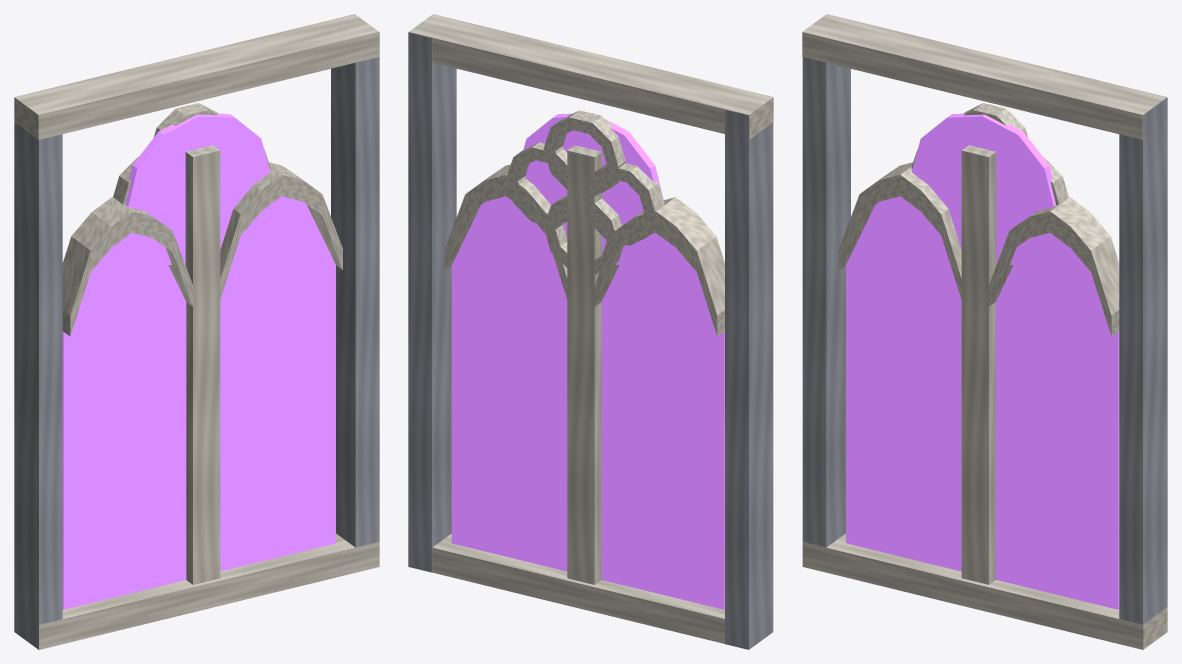
3 views of the same model, side by side, from view 1: azimuth 30°, elevation 25°; view 2: azimuth 150°, elevation 25°; view 3: azimuth 330°, elevation 25° (orthographic).
Visible parts, largest first — view 1: tracery-panel; view 2: tracery-panel; view 3: tracery-panel.
Boxes of the visible parts, <box> form: tracery-panel: <box>14,14,379,649</box>; tracery-panel: <box>408,14,773,649</box>; tracery-panel: <box>802,14,1167,649</box>.
Size of the model in its own units: 2 by 3 by 0.2512.
Materials: 3 (2 with a texture image).
